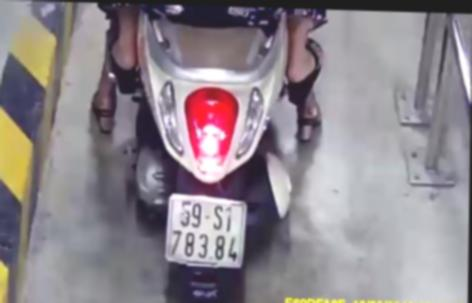License_Plate: (158, 191, 251, 274)
